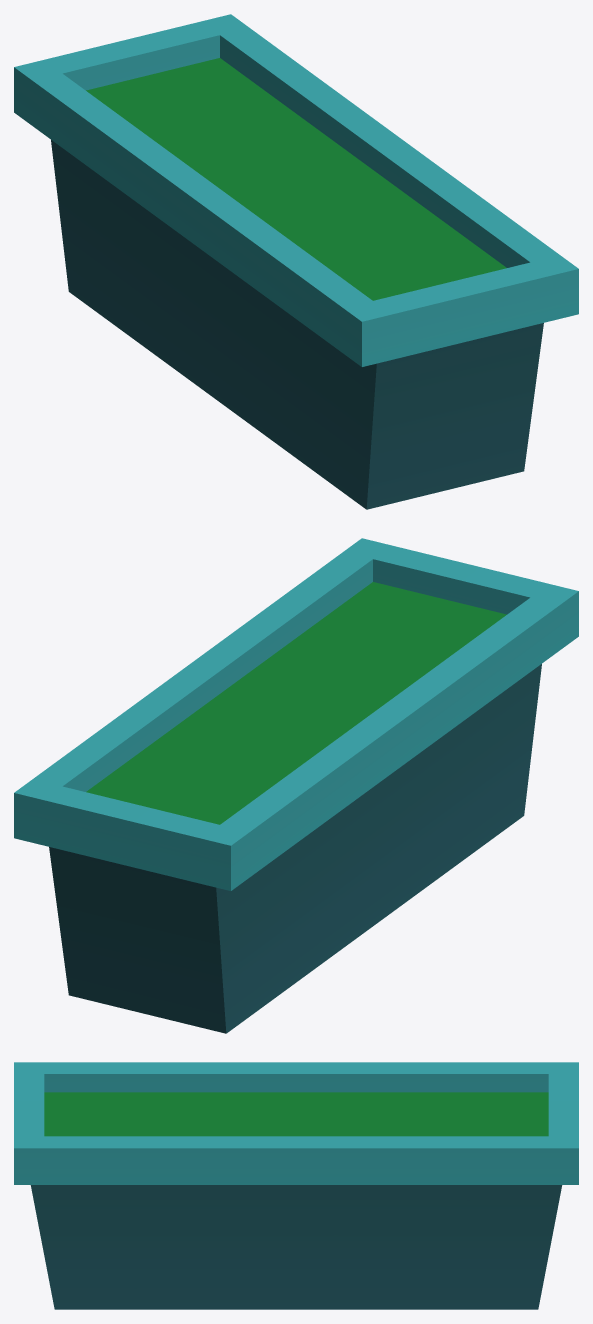
The model's file is FlowerPot_5_2_C.fbx.
The picture shows the model from 3 angles, top to bottom: view 1: azimuth 30°, elevation 25°; view 2: azimuth 150°, elevation 25°; view 3: azimuth 270°, elevation 25°; orthographic projection. The views are drawn at different scales.
Parts seen in each view (by area): view 1: FlowerPot_5_2_C; view 2: FlowerPot_5_2_C; view 3: FlowerPot_5_2_C.
Boxes of the visible parts, x1,y1,x2,y2 form: FlowerPot_5_2_C: [14, 14, 578, 509]; FlowerPot_5_2_C: [14, 538, 578, 1033]; FlowerPot_5_2_C: [14, 1062, 578, 1309].
Bounding box in the file's own units: 32.46 × 30.52 × 90.14.
